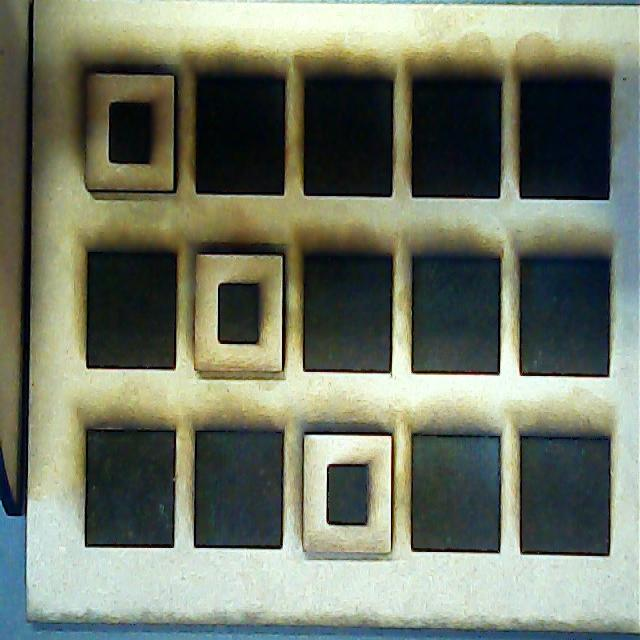square: (83, 66, 179, 194), (198, 244, 288, 373), (303, 431, 392, 558)
